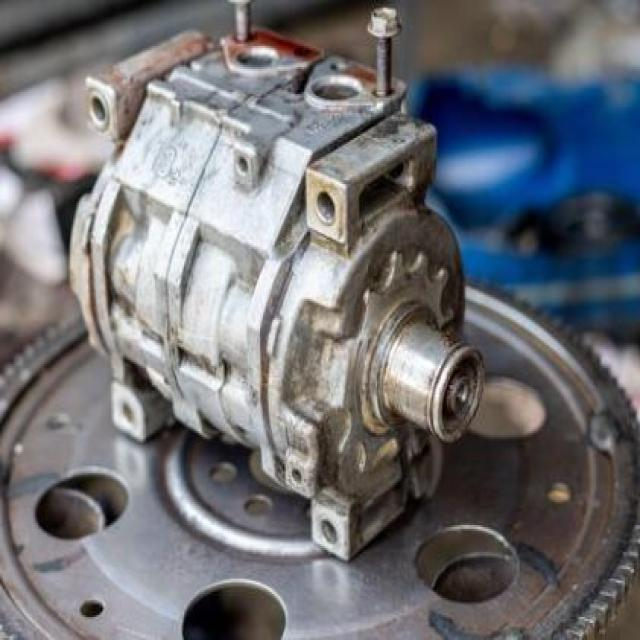electronic: (66, 9, 536, 548)
